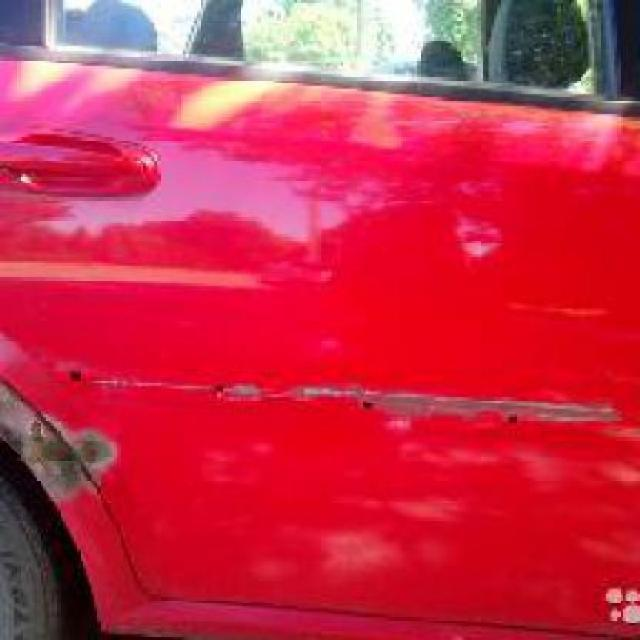dent-or-scratch: (39, 362, 638, 446)
